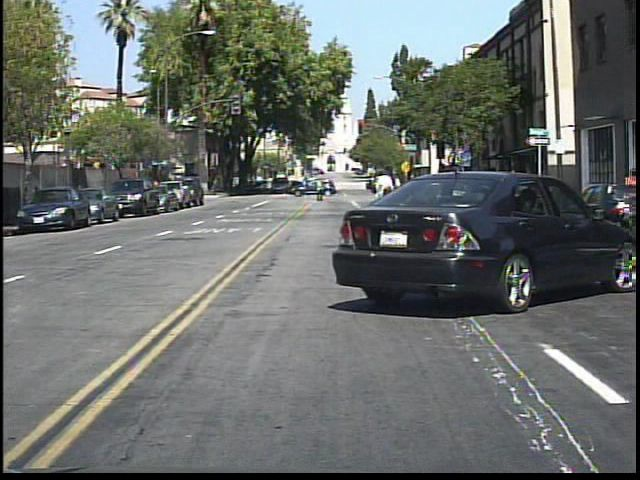person: (372, 161, 404, 237), (620, 164, 639, 226), (513, 163, 532, 220), (389, 170, 409, 204), (312, 174, 329, 204)
